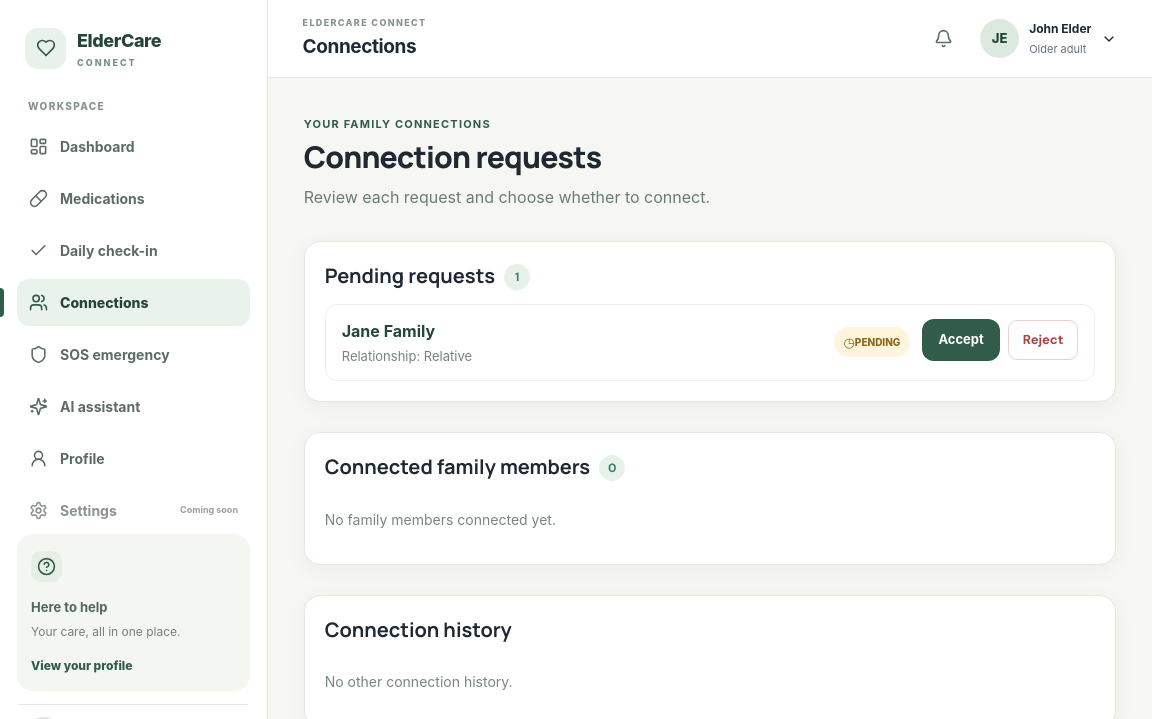
Test case: family and elder connection pages › lets an elder reject a request and displays it in connection history
Expected: the text "Jane Family" is shown, [342,321,435,341]
Click the button "Reject" at (1043, 340), box [1008,320,1078,360]
(page scrolled)
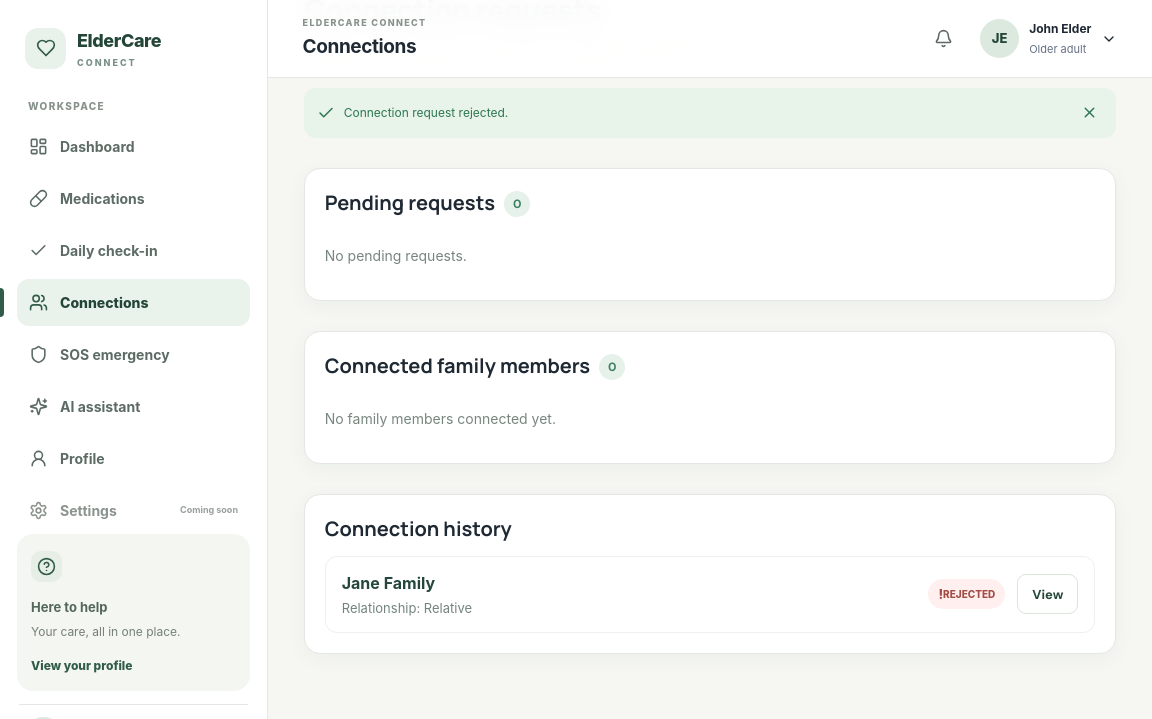
Expected: the heading "Connection history" is shown, [325,515,512,542]
Now the message reads "Connection request rejected.", box [344,105,508,120]
Now the text "REJECTED" is shown, box [928,580,1005,610]
